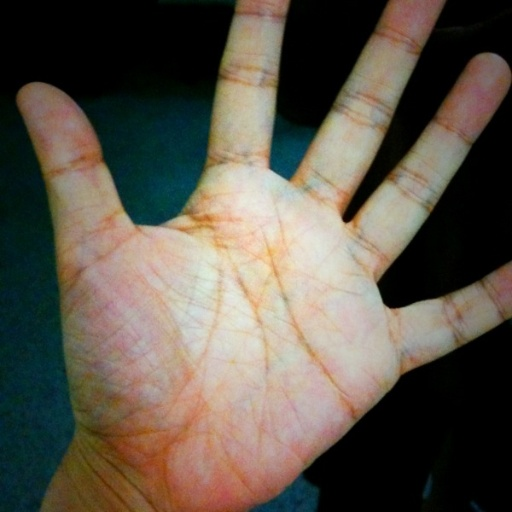hand: (16, 0, 510, 510)
